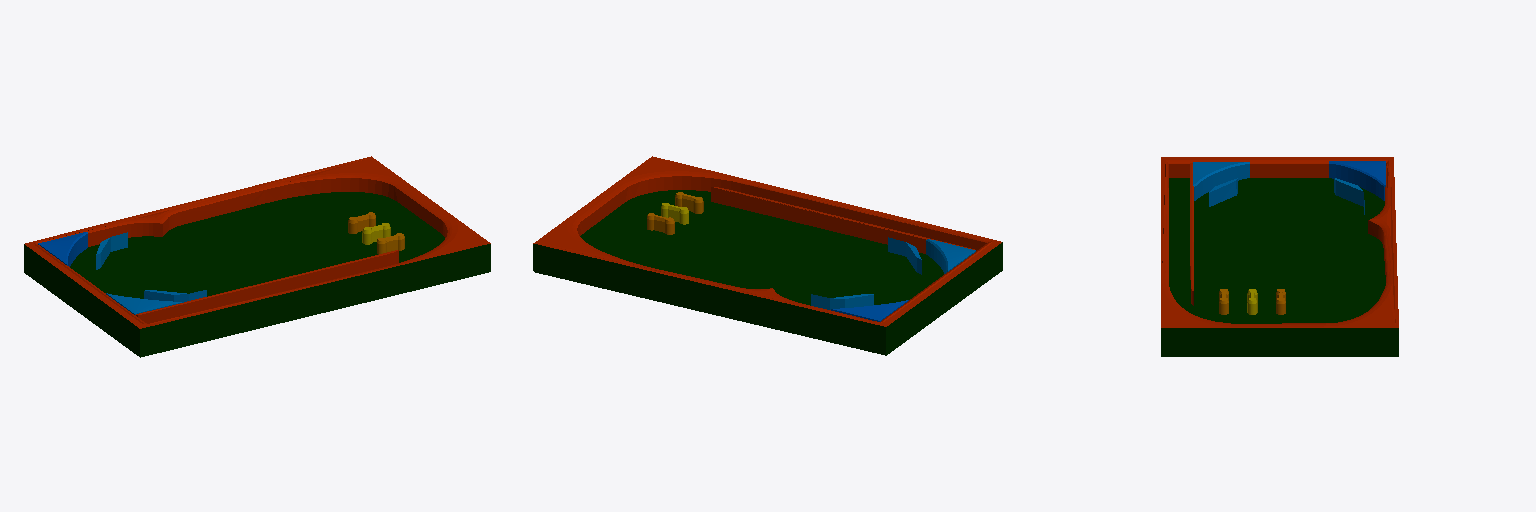
File: testTable2.obj
3 views of the same model, side by side, from view 1: azimuth 30°, elevation 25°; view 2: azimuth 150°, elevation 25°; view 3: azimuth 270°, elevation 25° (orthographic).
Parts seen in each view (by area): view 1: Board_Cube.000, Left_Cube.000, Right_Cube.000, leftdivider_Cube.001, rightdivider_Cube.000; view 2: Board_Cube.000, Right_Cube.000, leftdivider_Cube.001, Left_Cube.000, rightdivider_Cube.000; view 3: Board_Cube.000, Left_Cube.000, Right_Cube.000, leftdivider_Cube.001.
Part boxes in pixels (x1,y1,x2,y2): Board_Cube.000: (24,156,490,357); Left_Cube.000: (38,232,87,266); Right_Cube.000: (106,293,183,314); leftdivider_Cube.001: (96,232,127,269); rightdivider_Cube.000: (144,290,206,301); Board_Cube.000: (533,156,1002,355); Right_Cube.000: (926,239,975,273); leftdivider_Cube.001: (811,294,873,309); Left_Cube.000: (831,300,908,321); rightdivider_Cube.000: (888,237,921,274); Board_Cube.000: (1161,157,1398,356); Left_Cube.000: (1329,161,1385,200); Right_Cube.000: (1193,162,1249,200); leftdivider_Cube.001: (1334,178,1364,214).
Size of the model in its own units: 28.4 by 2.38 by 16.7.